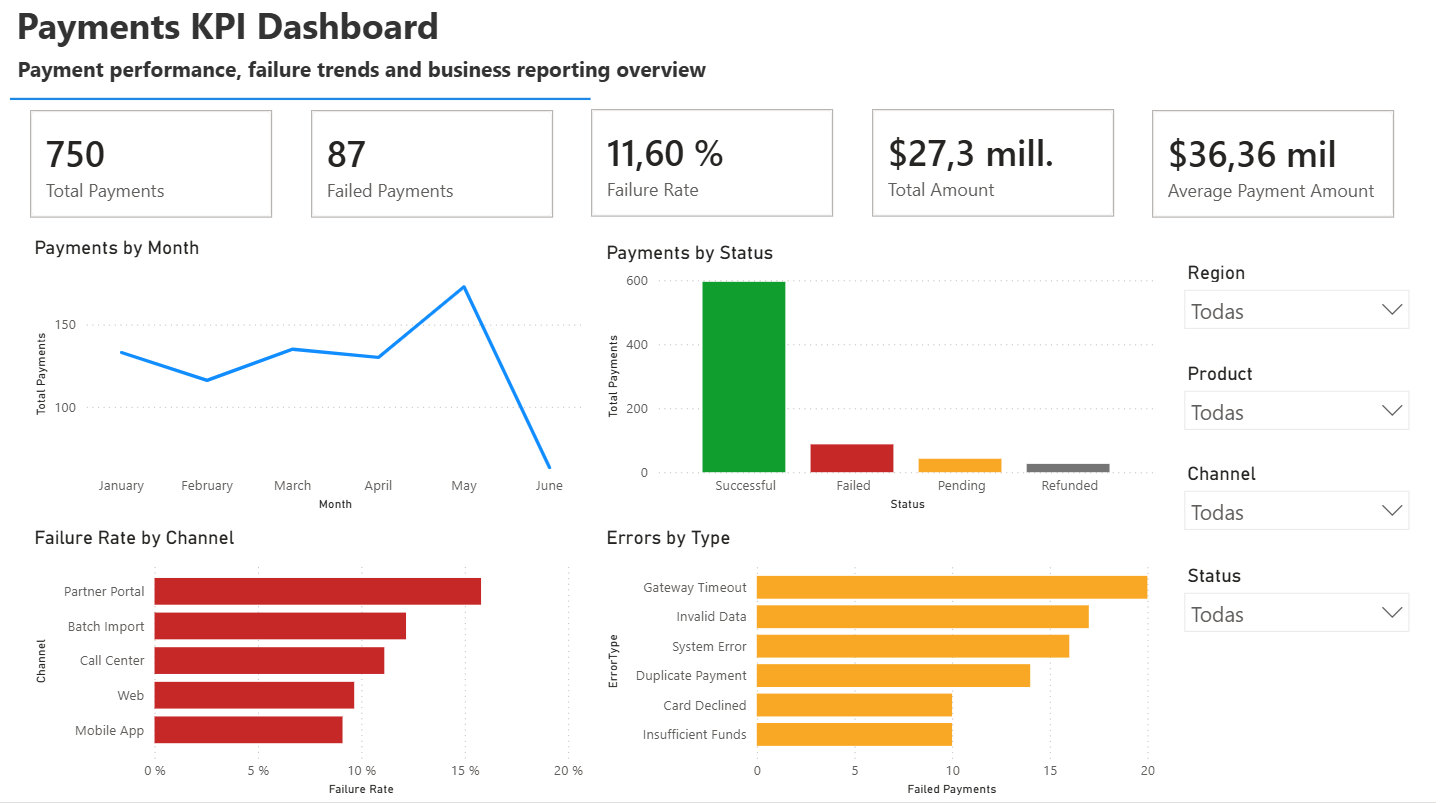

This screenshot's page, from the dashboard's own definition file:
{"tool":"powerbi","page":{"name":"Executive Overview","canvas":[1280,720],"ordinal":0},"visuals":[{"type":"textbox","box":[9.9,0,875.8,56.6],"z":0},{"type":"textbox","box":[10.4,49.1,875.7,59.4],"z":1000},{"type":"cardVisual","fields":{"Data":["Payments.Total Payments"]},"box":[9.9,86.4,250,130],"z":2000},{"type":"cardVisual","fields":{"Data":["Payments.Failed Payments"]},"box":[260.2,86.4,250.2,130.1],"z":3000},{"type":"cardVisual","fields":{"Data":["Payments.Failure Rate"]},"box":[510.4,85.4,250.2,130.1],"z":4000},{"type":"cardVisual","fields":{"Data":["Payments.Total Amount"]},"box":[760.7,85.4,250.2,130.1],"z":5000},{"type":"cardVisual","fields":{"Data":["Payments.Average Payment Amount"]},"box":[1010.9,86.4,250.2,130.1],"z":6000},{"type":"lineChart","title":"Payments by Month","fields":{"Category":["Payments.PaymentDate.Variación.Date Hierarchy.Month"],"Y":["Payments.Total Payments"]},"box":[25.8,215.5,500,250],"z":7000},{"type":"clusteredColumnChart","title":"Payments by Status","fields":{"Category":["Payments.Status"],"Y":["Payments.Total Payments"]},"box":[536.2,220.4,500.5,245.3],"z":8000},{"type":"clusteredBarChart","title":"Failure Rate by Channel","fields":{"Category":["Payments.Channel"],"Y":["Payments.Failure Rate"]},"box":[26,475,500,245],"z":9000},{"type":"clusteredBarChart","title":"Errors by Type","fields":{"Category":["Payments.ErrorType"],"Y":["Payments.Failed Payments"]},"box":[536.2,474.7,499.5,245.3],"z":10000},{"type":"slicer","fields":{"Values":["Payments.Region"]},"box":[1046.5,233.1,220.8,80],"z":11000},{"type":"slicer","fields":{"Values":["Payments.Product"]},"box":[1046.5,322.7,220.8,80.2],"z":12000},{"type":"slicer","fields":{"Values":["Payments.Channel"]},"box":[1046.5,412.3,220.8,80.2],"z":13000},{"type":"slicer","fields":{"Values":["Payments.Status"]},"box":[1046.5,503,220.8,80.2],"z":14000},{"type":"shape","box":[8.5,78.3,518.1,30.2],"z":15000}]}

Visuals, with their boxes in screenshot pixels (x1, y1, x2, y2), scaled from the page's 1280x720 canvas onto the 1447x803 screenshot:
textbox: x1=11, y1=0, x2=1001, y2=63
textbox: x1=12, y1=55, x2=1002, y2=121
cardVisual - Payments.Total Payments: x1=11, y1=96, x2=294, y2=241
cardVisual - Payments.Failed Payments: x1=294, y1=96, x2=577, y2=241
cardVisual - Payments.Failure Rate: x1=577, y1=95, x2=860, y2=240
cardVisual - Payments.Total Amount: x1=860, y1=95, x2=1143, y2=240
cardVisual - Payments.Average Payment Amount: x1=1143, y1=96, x2=1426, y2=241
"Payments by Month" lineChart: x1=29, y1=240, x2=594, y2=519
"Payments by Status" clusteredColumnChart: x1=606, y1=246, x2=1172, y2=519
"Failure Rate by Channel" clusteredBarChart: x1=29, y1=530, x2=595, y2=802
"Errors by Type" clusteredBarChart: x1=606, y1=529, x2=1171, y2=802
slicer - Payments.Region: x1=1183, y1=260, x2=1433, y2=349
slicer - Payments.Product: x1=1183, y1=360, x2=1433, y2=449
slicer - Payments.Channel: x1=1183, y1=460, x2=1433, y2=549
slicer - Payments.Status: x1=1183, y1=561, x2=1433, y2=650
shape: x1=10, y1=87, x2=595, y2=121
